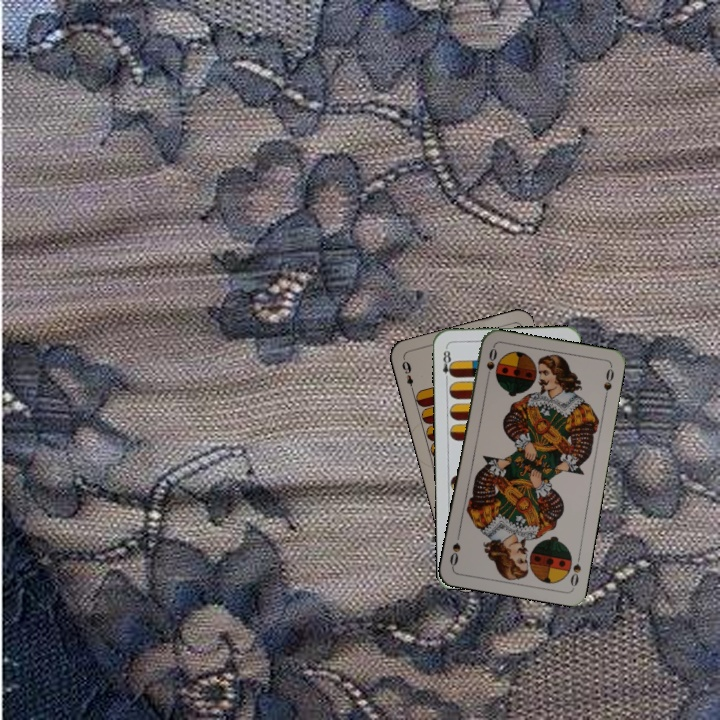E8: (439, 343, 456, 384)
E9: (398, 355, 416, 395)
SO: (482, 344, 500, 384), (566, 550, 584, 589)
